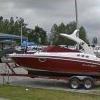Boat: (6, 30, 99, 81)
